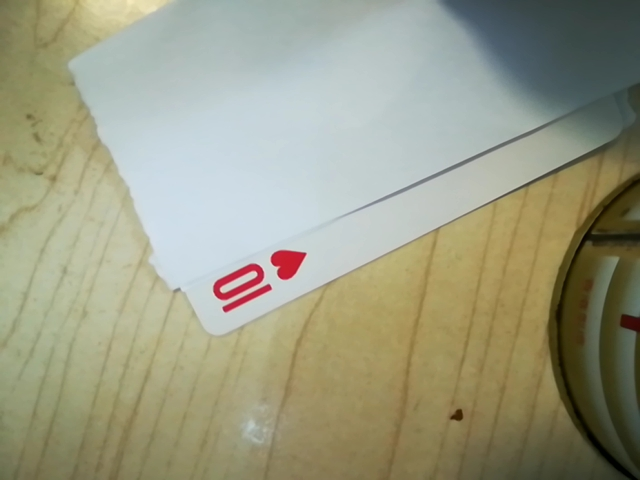hx 10: (204, 245, 306, 317)
